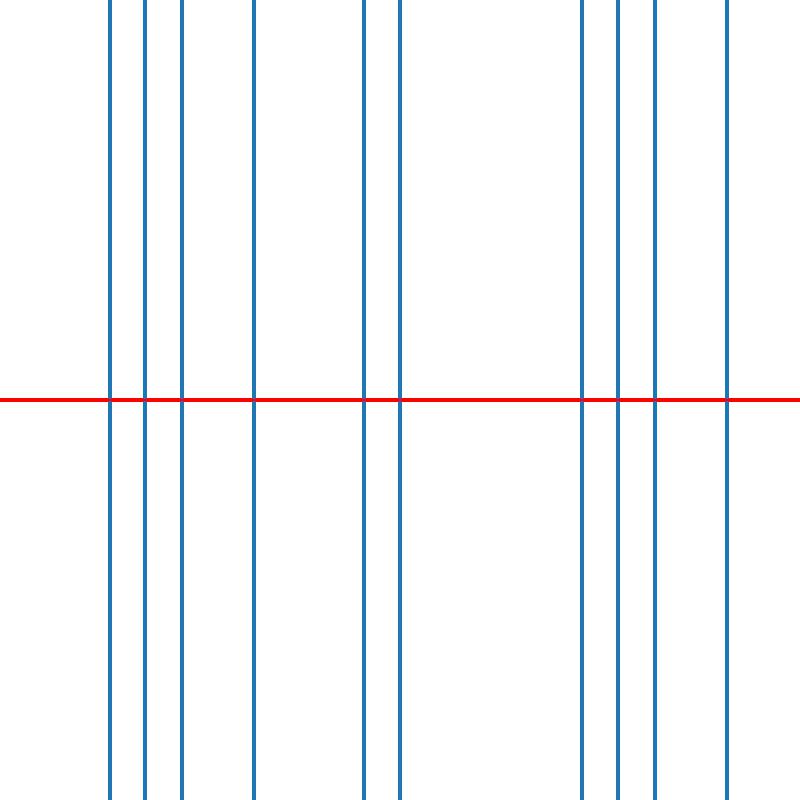root: (250, 396, 258, 404), (141, 396, 149, 404), (650, 396, 658, 404), (360, 396, 367, 404), (396, 396, 403, 404), (178, 396, 185, 404), (105, 396, 112, 404), (614, 396, 621, 404), (723, 396, 730, 404), (578, 396, 585, 404)
